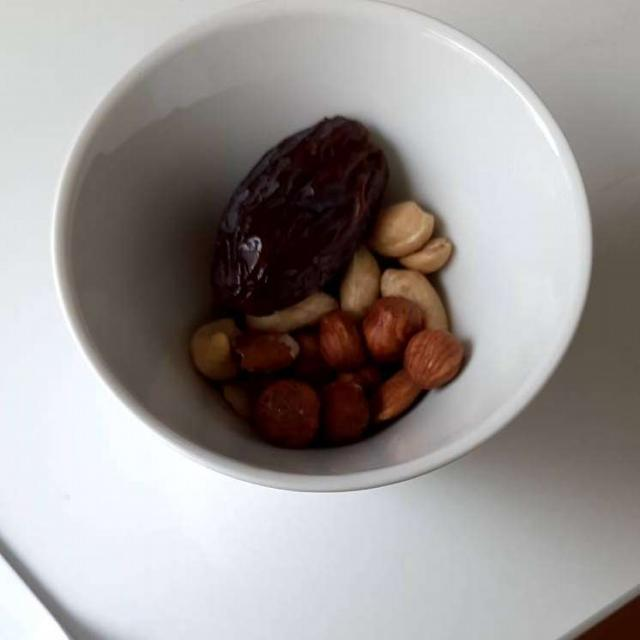dates: (210, 120, 389, 310)
mixed-nuts: (199, 206, 459, 443)
